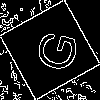G: (25, 25, 80, 75)
